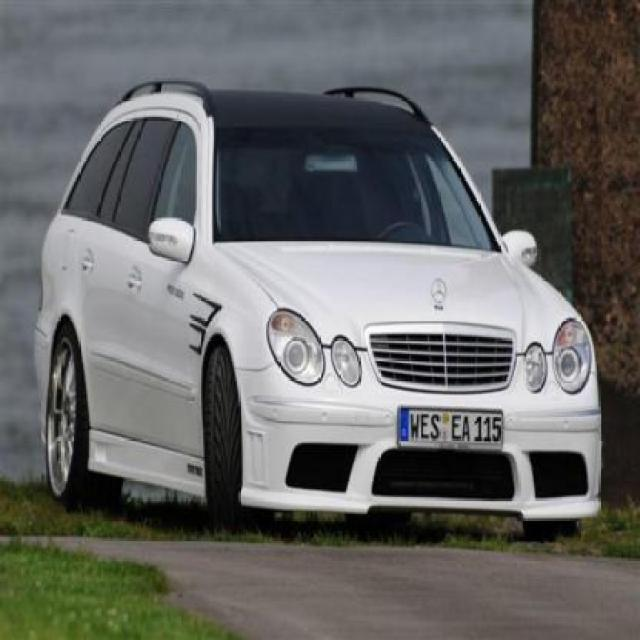Licenseplate: (393, 404, 511, 450)
